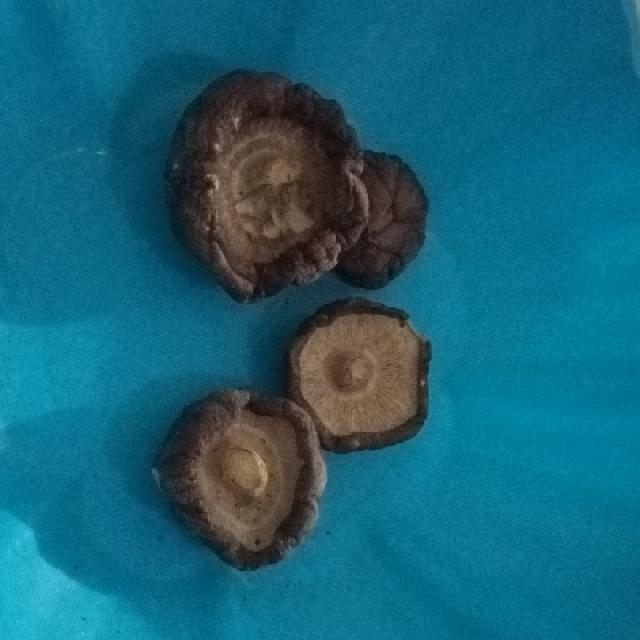Lentinus edodes: (185, 69, 364, 297), (159, 394, 325, 568), (289, 302, 431, 444), (342, 142, 431, 297)
